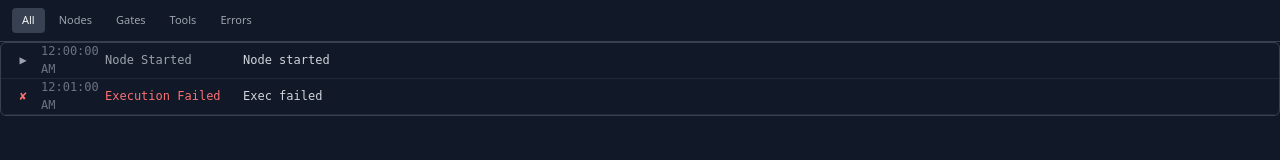
Scenario: EventLogPanel — VirtualizedEventLog migration (F10-T09) › filter buttons still filter events after migration
Expected: the text "Node started" is shown, [243, 53, 330, 67]
Expected: the text "Exec failed" is shown, [243, 89, 322, 103]
// Click Errors filter
Click the button "Errors" at (236, 20), box [210, 8, 262, 32]
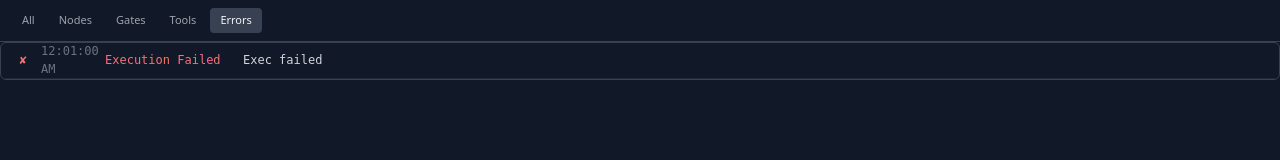
Expected: the text "Node Started" is gone
Expected: the text "Exec failed" is shown, [243, 53, 322, 67]
